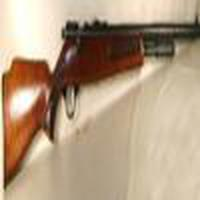gun: (4, 19, 194, 175)
